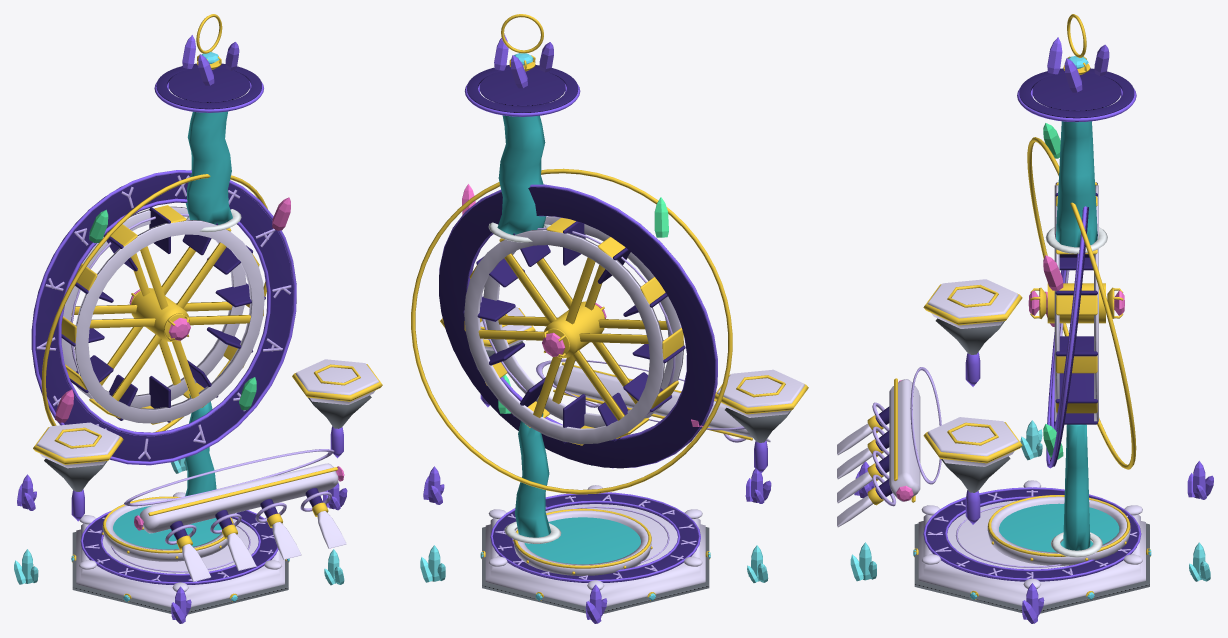
Rendered from ChiselMill_T4.fbx.
The picture shows the model from 3 angles, left to right: view 1: azimuth 30°, elevation 25°; view 2: azimuth 150°, elevation 25°; view 3: azimuth 270°, elevation 25°; orthographic projection. The views are drawn at different scales.
Visible parts, largest first — view 1: ChiselMillT4Wheel, ChiselMillT4RuneRing, ChiselMillT4Dais, ChiselMillT4Islands, ChiselMillT4WaterfallGlow, ChiselMillT4Holder, ChiselMillT4Portal, ChiselMillT4Chisels, ChiselMillT4DaisRunes, ChiselMillT4DaisCrystalsGlow, ChiselMillT4Pool, ChiselMillT4ChiselRunesGlow (+7 smaller); view 2: ChiselMillT4Wheel, ChiselMillT4RuneRing, ChiselMillT4Dais, ChiselMillT4WaterfallGlow, ChiselMillT4DaisRunes, ChiselMillT4Islands, ChiselMillT4Portal, ChiselMillT4PoolWaterGlow, ChiselMillT4Pool, ChiselMillT4DaisCrystalsGlow, ChiselMillT4Holder, ChiselMillT4PortalCrownGlow (+7 smaller); view 3: ChiselMillT4Dais, ChiselMillT4Islands, ChiselMillT4WaterfallGlow, ChiselMillT4Wheel, ChiselMillT4RuneRing, ChiselMillT4DaisRunes, ChiselMillT4Portal, ChiselMillT4DaisCrystalsGlow, ChiselMillT4Holder, ChiselMillT4Pool, ChiselMillT4PoolWaterGlow, ChiselMillT4Chisels (+8 smaller).
Boxes of the visible parts, x1,y1,x2,y2 form: ChiselMillT4Wheel: [61, 205, 265, 424]; ChiselMillT4RuneRing: [31, 170, 296, 465]; ChiselMillT4Dais: [72, 518, 288, 614]; ChiselMillT4Islands: [33, 359, 382, 491]; ChiselMillT4WaterfallGlow: [185, 111, 232, 496]; ChiselMillT4Holder: [139, 463, 338, 533]; ChiselMillT4Portal: [154, 63, 263, 112]; ChiselMillT4Chisels: [170, 488, 346, 581]; ChiselMillT4DaisRunes: [80, 510, 278, 584]; ChiselMillT4DaisCrystalsGlow: [14, 458, 347, 623]; ChiselMillT4Pool: [102, 496, 233, 561]; ChiselMillT4ChiselRunesGlow: [124, 449, 334, 544]; ChiselMillT4Wheel: [463, 216, 685, 445]; ChiselMillT4RuneRing: [411, 168, 732, 494]; ChiselMillT4Dais: [481, 504, 710, 613]; ChiselMillT4WaterfallGlow: [497, 115, 550, 537]; ChiselMillT4DaisRunes: [490, 492, 700, 582]; ChiselMillT4Islands: [440, 307, 808, 442]; ChiselMillT4Portal: [464, 65, 580, 116]; ChiselMillT4PoolWaterGlow: [524, 517, 640, 564]; ChiselMillT4Pool: [512, 508, 652, 575]; ChiselMillT4DaisCrystalsGlow: [420, 465, 771, 623]; ChiselMillT4Holder: [553, 362, 752, 440]; ChiselMillT4PortalCrownGlow: [494, 34, 553, 88]; ChiselMillT4Dais: [914, 500, 1150, 613]; ChiselMillT4Islands: [923, 279, 1022, 492]; ChiselMillT4WaterfallGlow: [1056, 121, 1097, 550]; ChiselMillT4Wheel: [1047, 182, 1105, 424]; ChiselMillT4RuneRing: [1027, 137, 1136, 469]; ChiselMillT4DaisRunes: [923, 487, 1141, 581]; ChiselMillT4Portal: [1017, 68, 1136, 122]; ChiselMillT4DaisCrystalsGlow: [850, 420, 1213, 623]; ChiselMillT4Holder: [889, 378, 920, 502]; ChiselMillT4Pool: [987, 495, 1130, 565]; ChiselMillT4PoolWaterGlow: [999, 503, 1119, 552]; ChiselMillT4Chisels: [837, 406, 892, 527].
Bounding box in the file's own units: 355 × 525 × 316.
